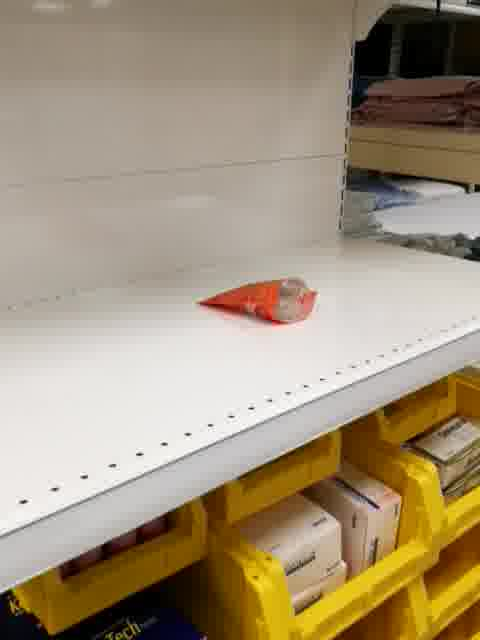whitechia: (194, 273, 321, 329)
